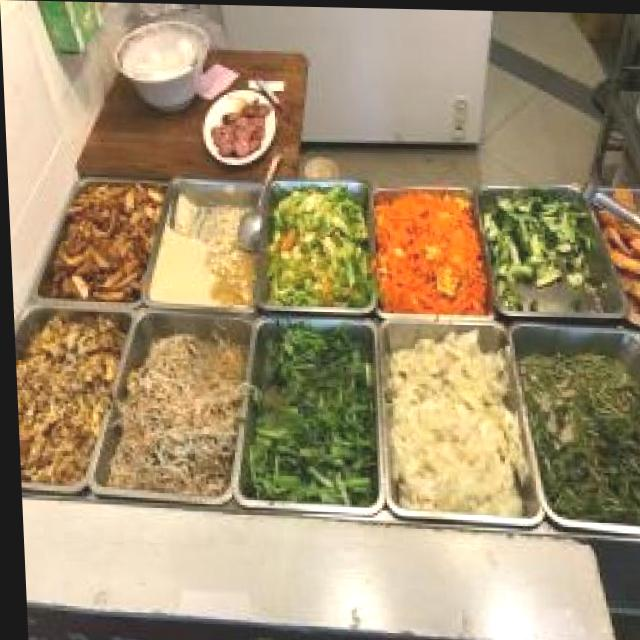carrot_eggs: (377, 196, 480, 308)
chinese_cabbage: (387, 352, 516, 512)
chinese_sausage: (211, 99, 266, 155)
fried_chicken: (615, 233, 640, 306)
mung_bean_sprouts: (135, 332, 225, 494)
water_spinach: (522, 359, 640, 521)
